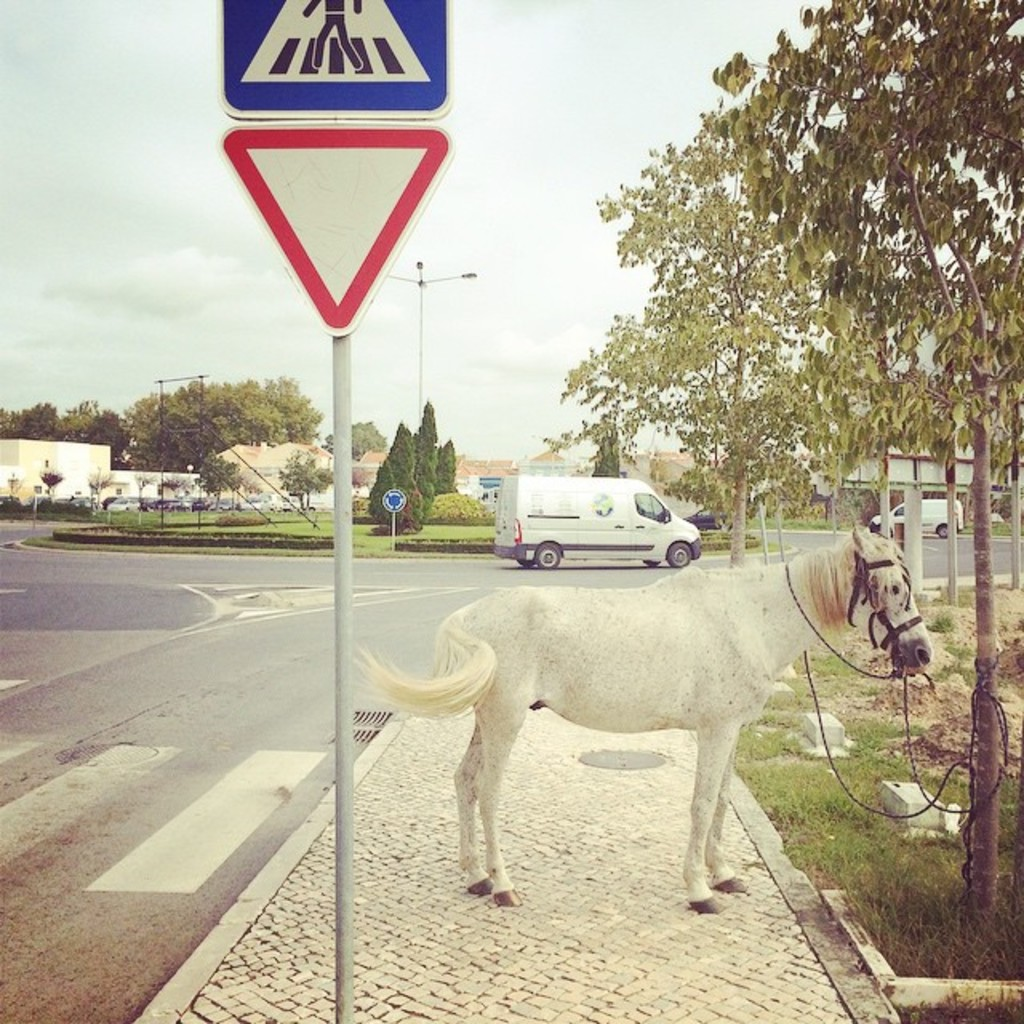horse: (353, 524, 932, 910)
